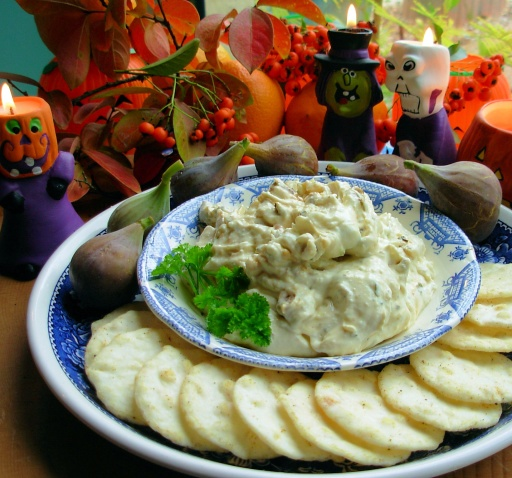background: (67, 154, 409, 347), (119, 131, 350, 266), (143, 69, 402, 181), (56, 99, 254, 226)
